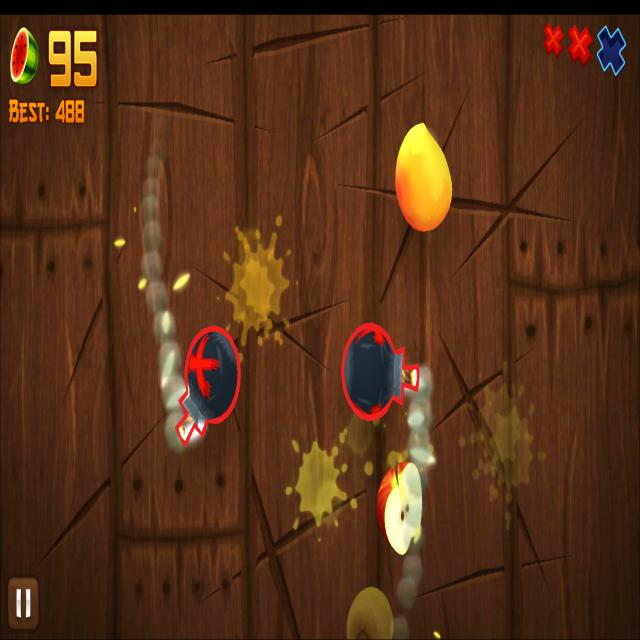bomb: (340, 322, 420, 422), (176, 326, 241, 446)
fruit: (396, 124, 452, 230), (346, 587, 393, 640)
